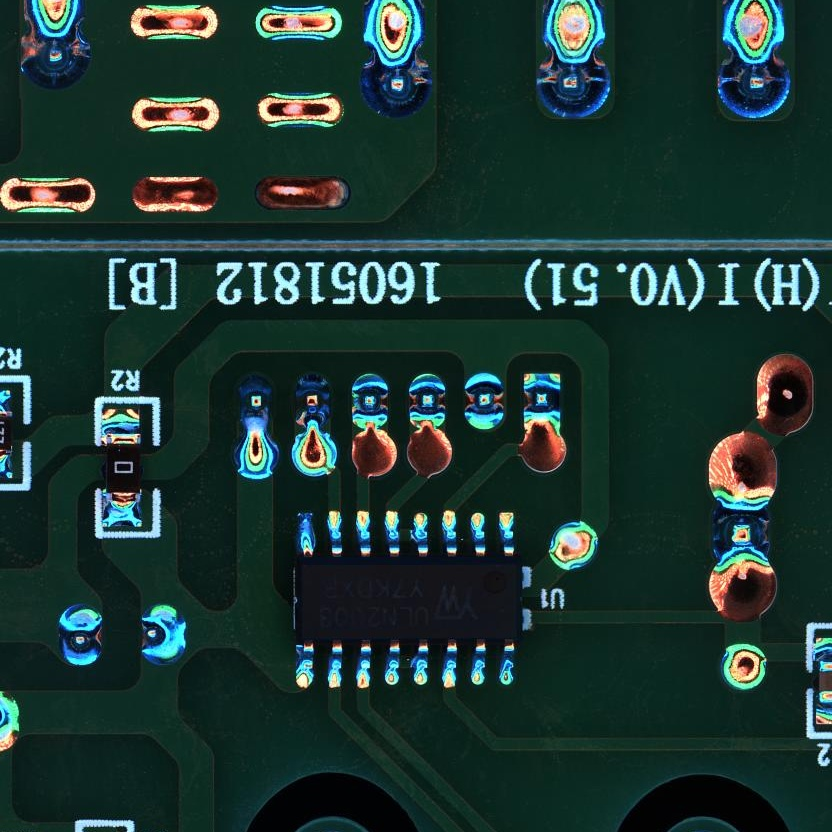spot: (714, 51, 792, 120), (534, 53, 612, 121), (16, 24, 95, 89), (362, 49, 435, 117), (705, 500, 776, 568), (56, 602, 104, 667), (139, 602, 188, 665), (461, 370, 507, 435), (547, 519, 602, 572), (405, 370, 449, 430), (349, 372, 391, 434), (233, 372, 277, 431), (291, 372, 335, 431), (521, 370, 563, 431), (719, 642, 767, 688)
